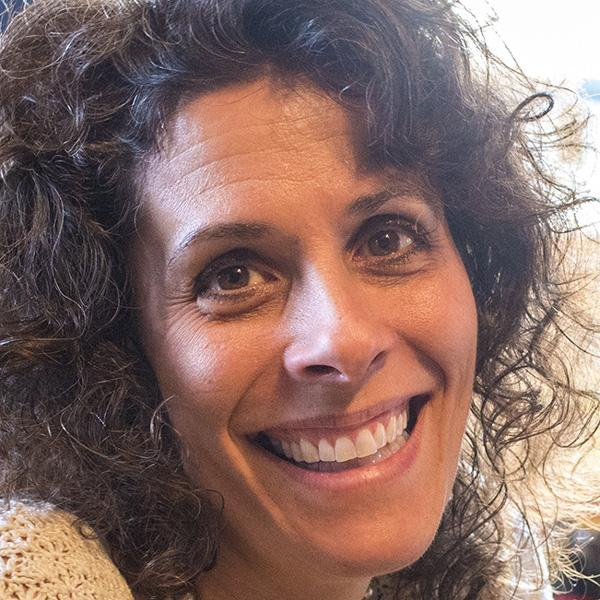Eyes: (185, 238, 286, 318), (341, 206, 432, 281)
